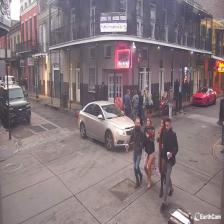person: (159, 120, 178, 210), (125, 118, 144, 188), (156, 118, 169, 196), (143, 117, 155, 187)
